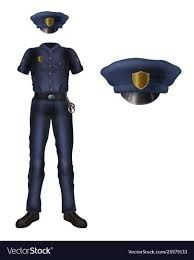uniform: (22, 46, 78, 216)
